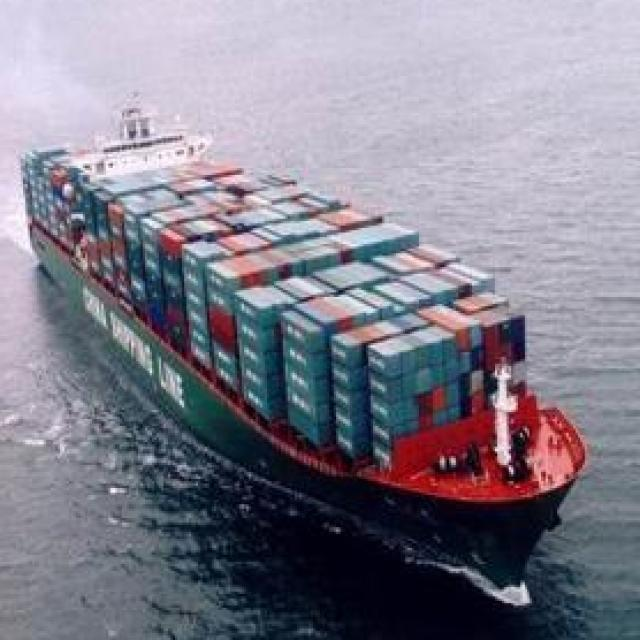cargoship: (4, 86, 590, 581)
